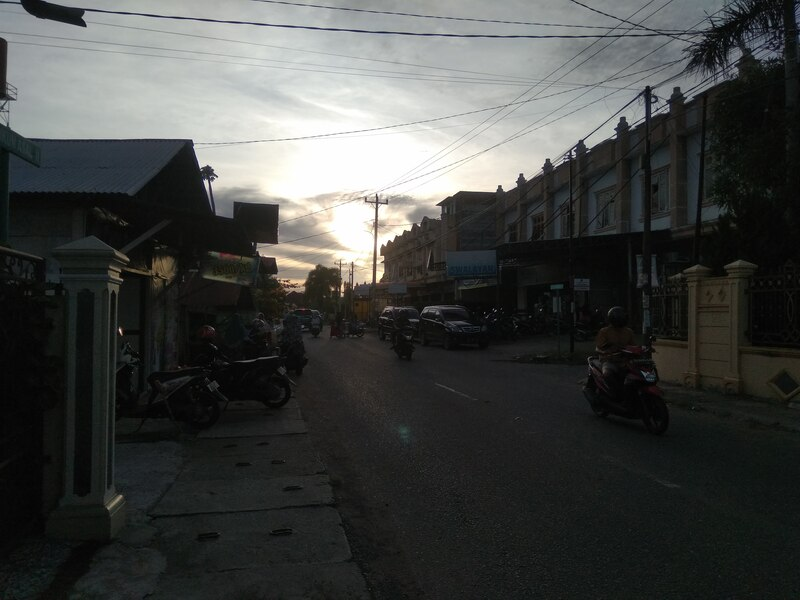car: (420, 301, 491, 356), (376, 302, 423, 344)
motorcycle: (578, 333, 679, 437), (390, 324, 420, 362)
